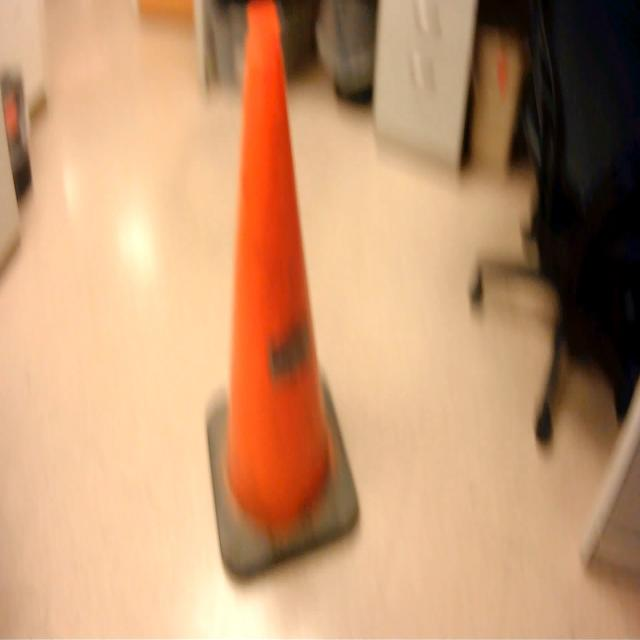traffic cone: (201, 1, 367, 590)
